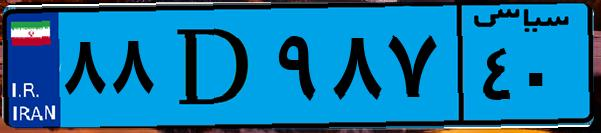0: (525, 38, 570, 115)
4: (475, 38, 525, 113)
7: (385, 28, 445, 110)
8: (330, 28, 385, 110), (57, 26, 110, 100), (110, 28, 158, 98)
9: (270, 28, 330, 110)
D: (158, 12, 270, 120)
